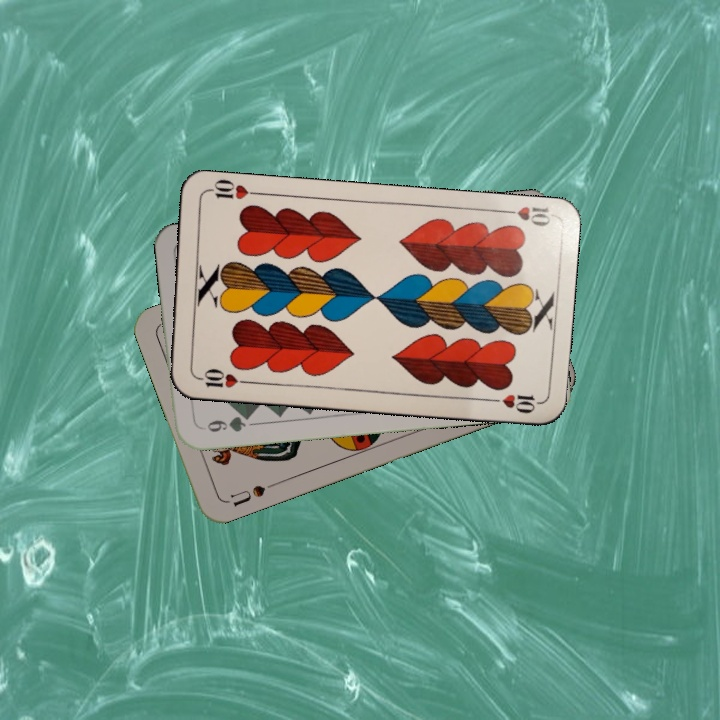G9: (197, 410, 255, 435)
H10: (495, 202, 555, 229), (192, 364, 251, 391)
SU: (222, 478, 279, 509)
